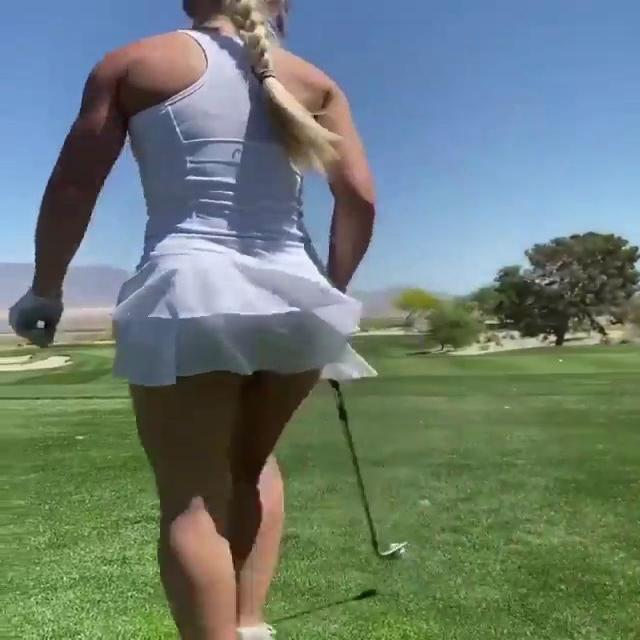ClubHead: (384, 540, 410, 557)
